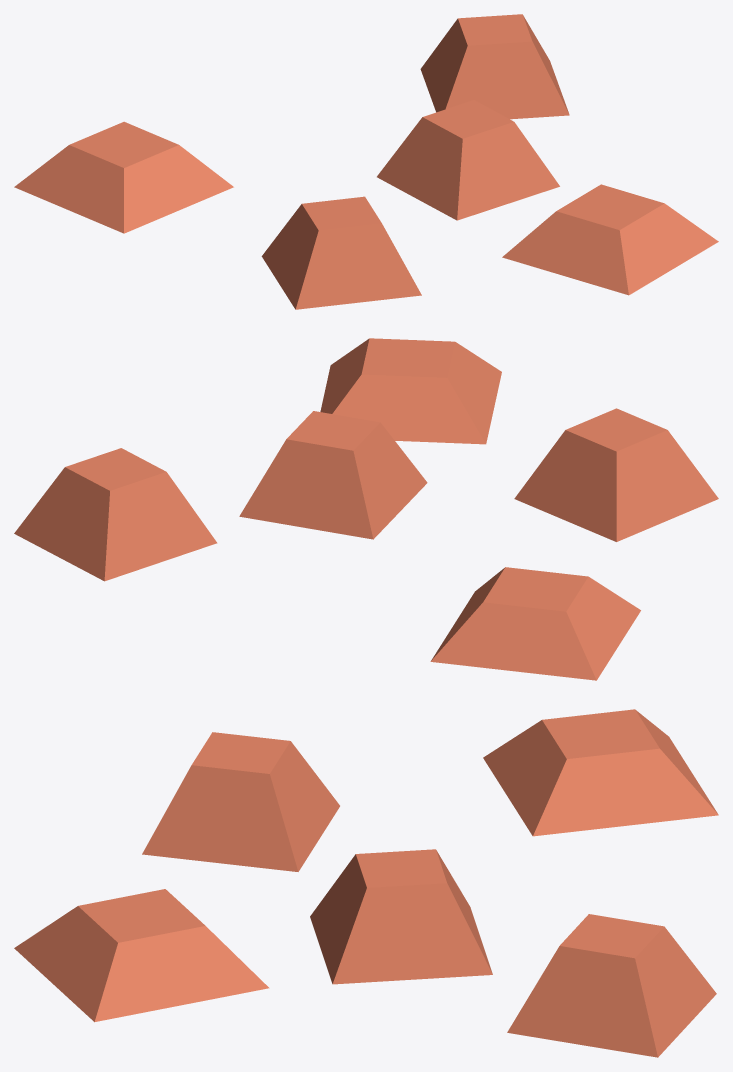
Rendered from rocks_smallA.dae.
3 views of the same model, one above another, from view 1: azimuth 30°, elevation 25°; view 2: azimuth 150°, elevation 25°; view 3: azimuth 270°, elevation 25° (orthographic). The views are drawn at different scales.
Visible parts, largest first — view 1: rocks_smallA; view 2: rocks_smallA; view 3: rocks_smallA.
Part boxes in pixels (box(x1,y1,x2,y2)): rocks_smallA: box(14, 14, 718, 309); rocks_smallA: box(14, 338, 718, 680); rocks_smallA: box(14, 709, 718, 1057).
Size of the model in its own units: 0.9372 by 0.1051 by 0.8698.
